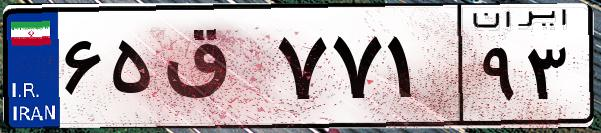1: (385, 28, 445, 110)
3: (525, 38, 570, 115)
5: (110, 28, 158, 98)
6: (57, 26, 110, 100)
7: (270, 28, 330, 110), (330, 28, 385, 110)
9: (475, 38, 525, 113)
ق: (158, 20, 270, 120)
